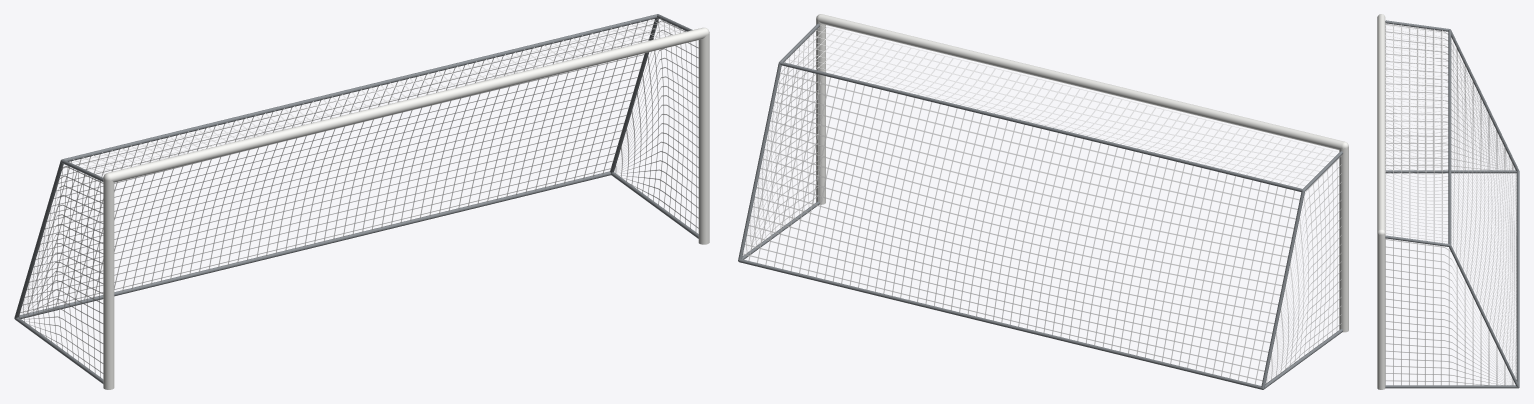
File: gol.glb
The picture shows the model from 3 angles, left to right: view 1: azimuth 30°, elevation 25°; view 2: azimuth 150°, elevation 25°; view 3: azimuth 270°, elevation 25°; orthographic projection. The views are drawn at different scales.
Visible parts, largest first — view 1: rede_fundo, travessao, rede_teto, rede_lateral_esq, rede_lateral_dir, suporte_teto_fundo, suporte_chao_fundo, poste_esquerdo, poste_direito, suporte_fundo_esq, suporte_fundo_dir; view 2: rede_fundo, rede_teto, travessao, rede_lateral_esq, rede_lateral_dir, suporte_chao_fundo, suporte_teto_fundo, poste_esquerdo, poste_direito, suporte_fundo_esq, suporte_fundo_dir; view 3: rede_fundo, rede_teto, rede_lateral_dir, rede_lateral_esq, travessao, poste_direito, suporte_teto_fundo, suporte_chao_fundo, suporte_fundo_dir, suporte_fundo_esq, suporte_chao_dir, suporte_chao_esq (+2 smaller).
Boxes of the visible parts, bbox=[...] form: rede_fundo: bbox=[20, 20, 653, 314]; travessao: bbox=[108, 27, 706, 182]; rede_teto: bbox=[71, 18, 682, 175]; rede_lateral_esq: bbox=[19, 165, 103, 377]; rede_lateral_dir: bbox=[615, 20, 698, 232]; suporte_teto_fundo: bbox=[63, 14, 657, 161]; suporte_chao_fundo: bbox=[19, 171, 610, 318]; poste_esquerdo: bbox=[103, 179, 114, 389]; poste_direito: bbox=[698, 33, 709, 244]; suporte_fundo_esq: bbox=[14, 161, 63, 318]; suporte_fundo_dir: bbox=[610, 18, 658, 172]; rede_fundo: bbox=[743, 67, 1299, 384]; rede_teto: bbox=[786, 25, 1339, 187]; travessao: bbox=[818, 14, 1344, 149]; rede_lateral_esq: bbox=[1266, 155, 1341, 383]; rede_lateral_dir: bbox=[746, 28, 818, 252]; suporte_chao_fundo: bbox=[739, 259, 1261, 389]; suporte_teto_fundo: bbox=[779, 61, 1303, 191]; poste_esquerdo: bbox=[1339, 147, 1348, 332]; poste_direito: bbox=[816, 19, 825, 204]; suporte_fundo_esq: bbox=[1261, 191, 1304, 388]; suporte_fundo_dir: bbox=[738, 63, 781, 260]; rede_fundo: bbox=[1451, 38, 1516, 377]; rede_teto: bbox=[1385, 22, 1447, 242]; rede_lateral_dir: bbox=[1385, 238, 1513, 385]; rede_lateral_esq: bbox=[1385, 24, 1513, 170]; travessao: bbox=[1377, 14, 1385, 231]; poste_direito: bbox=[1377, 234, 1385, 389]; suporte_teto_fundo: bbox=[1448, 29, 1451, 244]; suporte_chao_fundo: bbox=[1516, 171, 1519, 385]; suporte_fundo_dir: bbox=[1449, 245, 1519, 387]; suporte_fundo_esq: bbox=[1451, 31, 1519, 171]; suporte_chao_dir: bbox=[1385, 385, 1517, 388]; suporte_chao_esq: bbox=[1385, 170, 1516, 173].
Bounding box in the file's own units: 7.58 × 2.56 × 2.08.
Materials: 3 (1 with a texture image).
